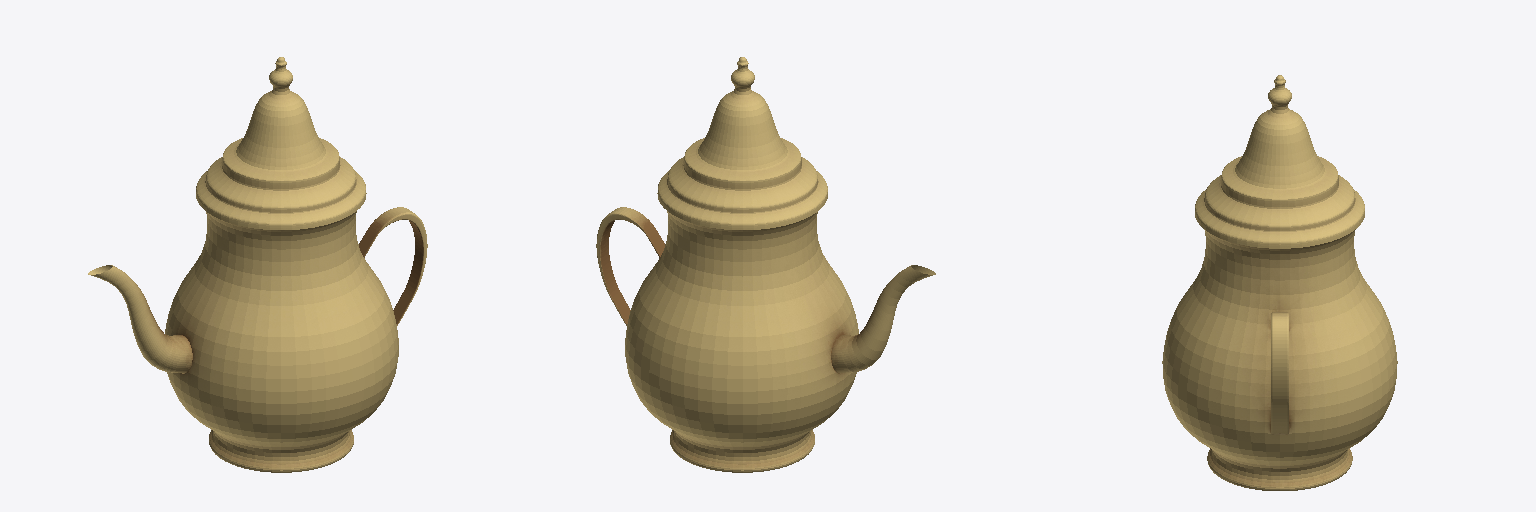
The picture shows the model from 3 angles: view 1: azimuth 30°, elevation 25°; view 2: azimuth 150°, elevation 25°; view 3: azimuth 270°, elevation 25°; orthographic projection.
Visible parts, largest first — view 1: tea_pot_body, teapot_top; view 2: tea_pot_body, teapot_top; view 3: tea_pot_body, teapot_top.
Part boxes in pixels (bbox=[...]): tea_pot_body: bbox=[88, 207, 427, 472]; teapot_top: bbox=[196, 57, 366, 229]; tea_pot_body: bbox=[596, 207, 935, 472]; teapot_top: bbox=[657, 57, 827, 229]; tea_pot_body: bbox=[1162, 229, 1397, 490]; teapot_top: bbox=[1195, 75, 1364, 248].
Bounding box in the file's own units: 3.42 × 3.76 × 2.08.
Materials: 1 (1 with a texture image).